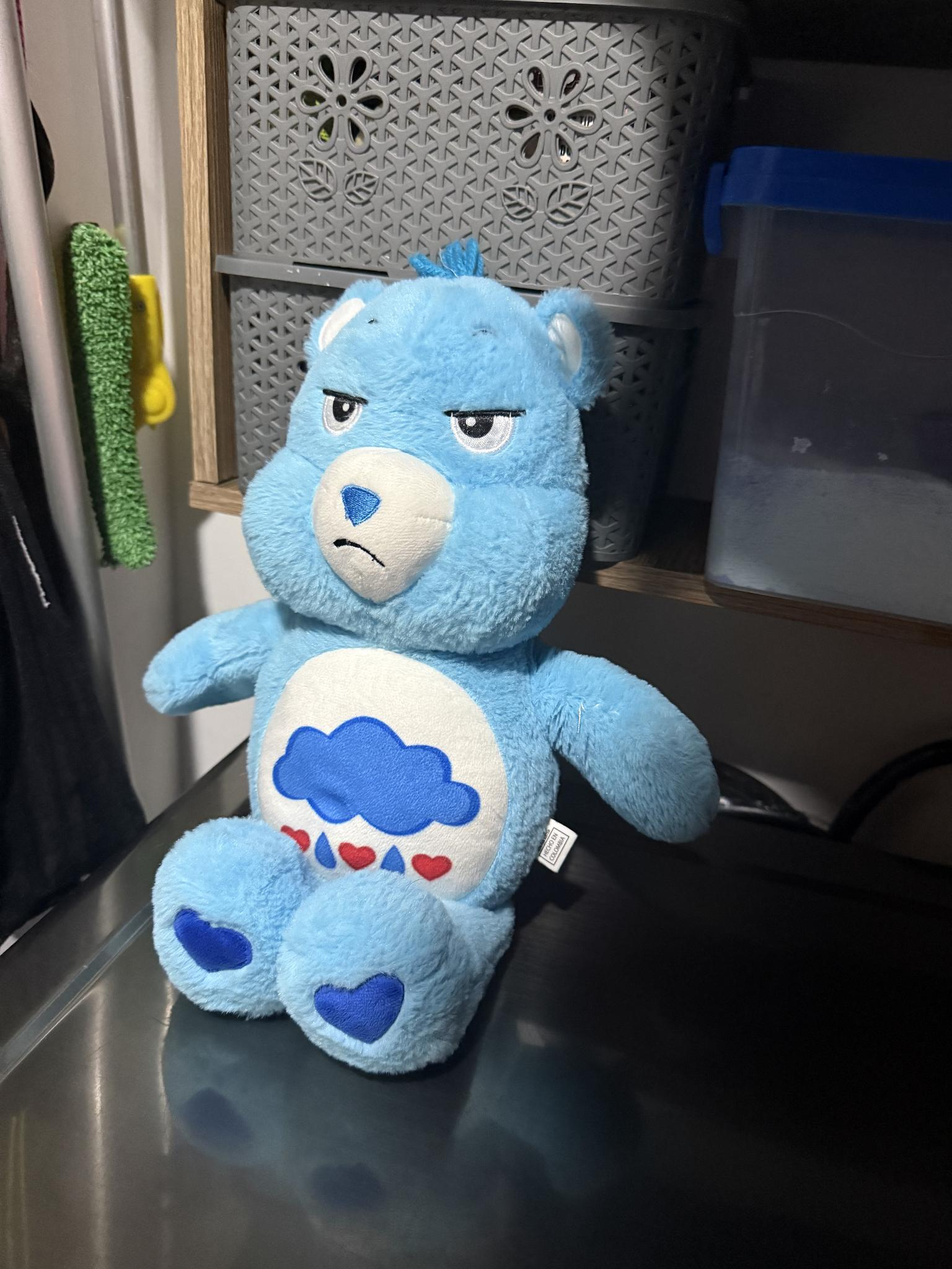peluche_Juan Jose: (140, 253, 720, 1077)
